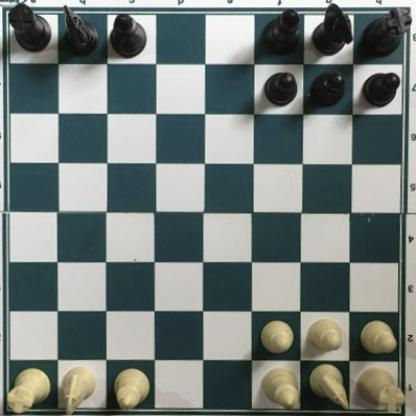black-bishop: (261, 9, 301, 57), (108, 14, 147, 58)
black-knight: (313, 2, 355, 58), (57, 4, 100, 57)
black-pawn: (309, 67, 347, 108), (359, 69, 401, 106), (262, 68, 299, 106)
black-rook: (361, 3, 412, 56), (5, 2, 52, 52)
white-bishop: (114, 365, 152, 416), (260, 365, 301, 410)
white-knight: (307, 362, 349, 412), (57, 367, 97, 416)
white-pawn: (359, 319, 397, 352), (307, 317, 342, 351), (259, 318, 292, 353)
white-rook: (1, 366, 52, 416), (355, 365, 404, 413)
